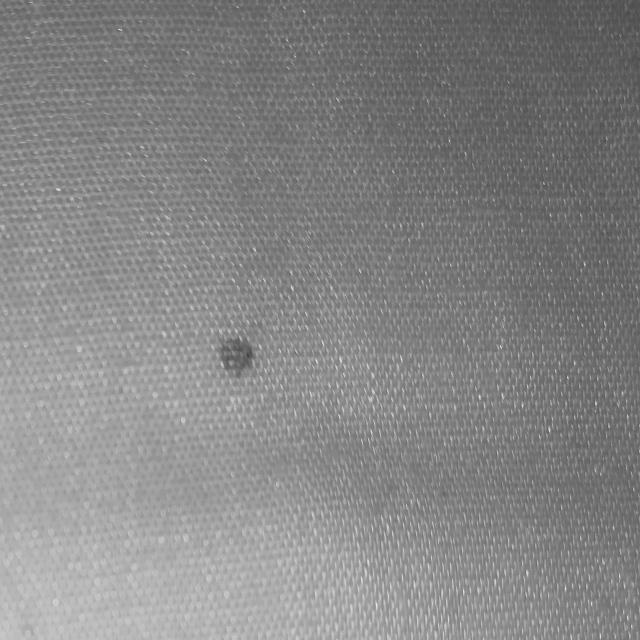Stain: (221, 338, 253, 377)
